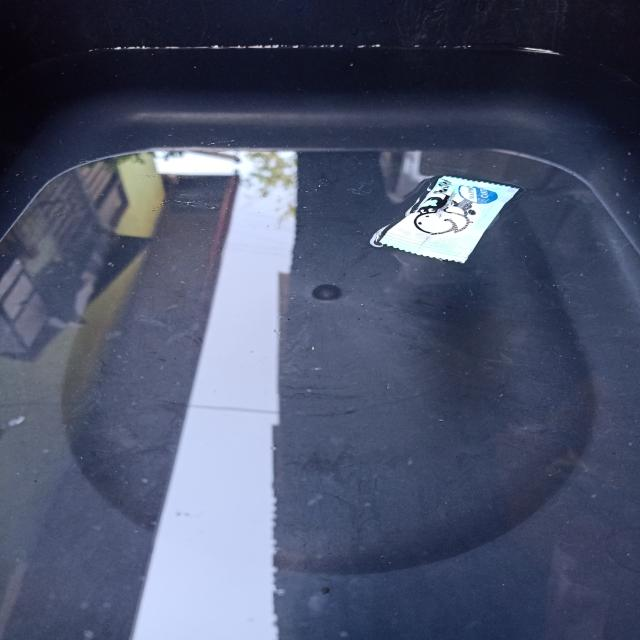Plastic Wrapper: (370, 176, 519, 263)
